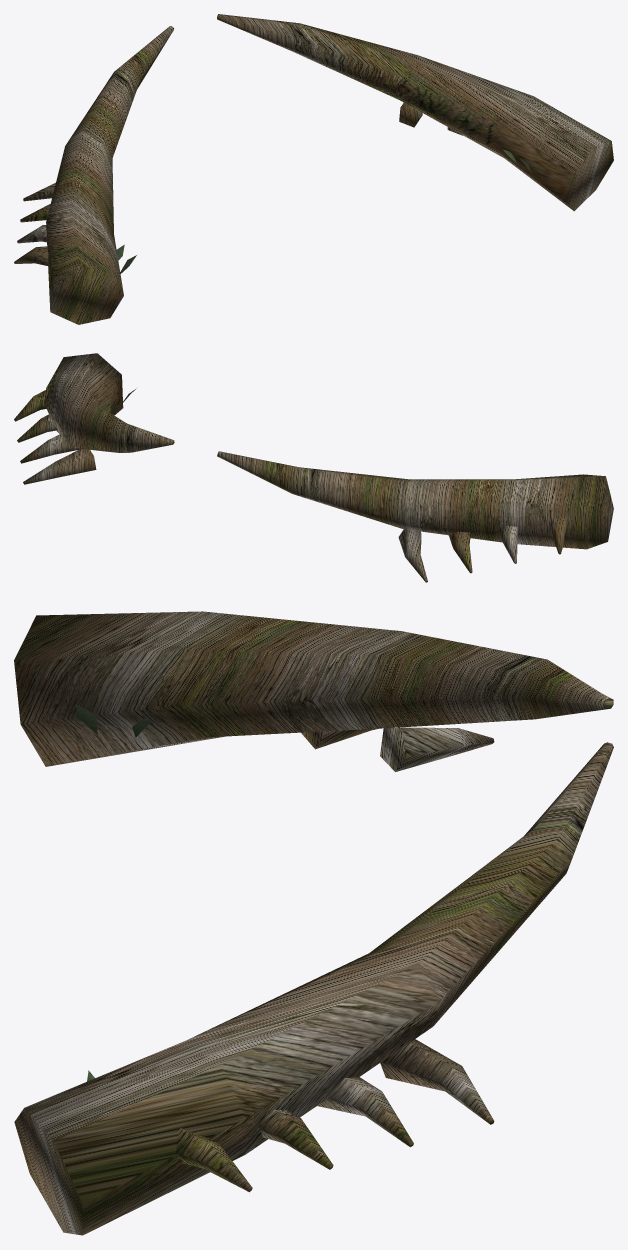
The model's file is root-arch.desktop.glb.
3 views of the same model, one above another, from view 1: azimuth 30°, elevation 25°; view 2: azimuth 150°, elevation 25°; view 3: azimuth 270°, elevation 25° (orthographic). The views are drawn at different scales.
Parts seen in each view (by area): view 1: SA_P03_MESH_60; view 2: SA_P03_MESH_60; view 3: SA_P03_MESH_60.
Boxes of the visible parts, x1,y1,x2,y2 form: SA_P03_MESH_60: [14, 14, 613, 324]; SA_P03_MESH_60: [14, 353, 613, 582]; SA_P03_MESH_60: [14, 611, 613, 1235].
Size of the model in its own units: 3.46 by 0.862 by 1.64.
2 materials, 2 textured.
